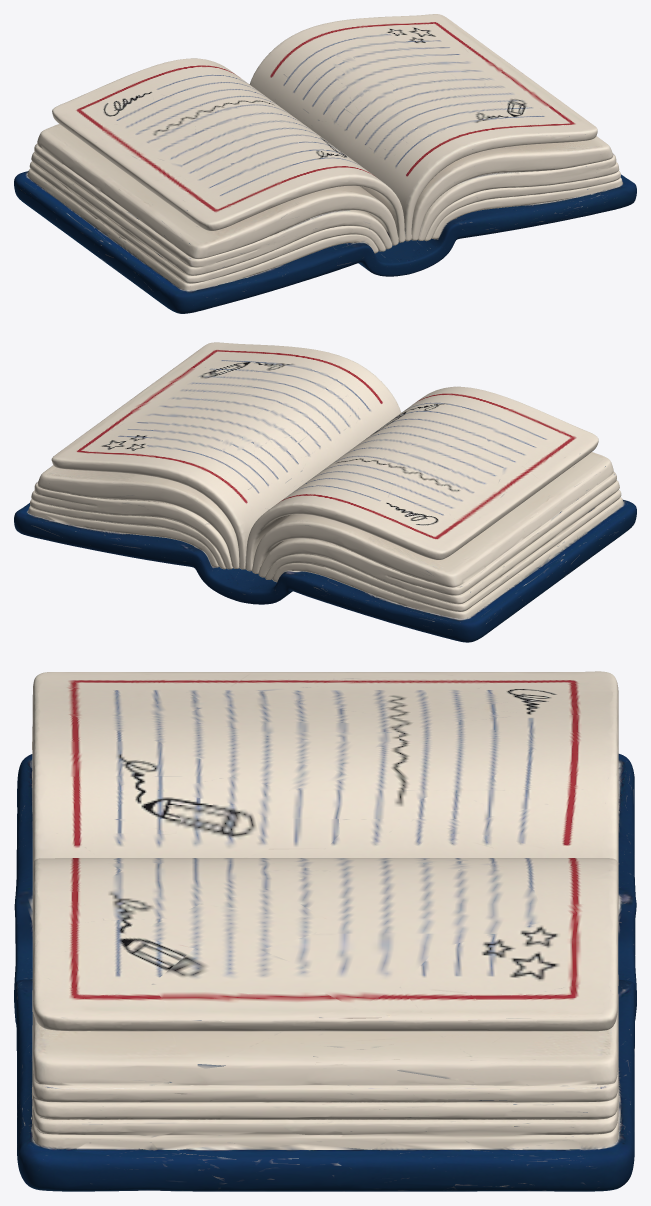
File: Meshy_AI_Open_Journal_with_Pencil_20261030_texture.fbx
3 renders of one model, top to bottom at view 1: azimuth 30°, elevation 25°; view 2: azimuth 150°, elevation 25°; view 3: azimuth 270°, elevation 25°, orthographic. The views are drawn at different scales.
Parts seen in each view (by area): view 1: Mesh_0; view 2: Mesh_0; view 3: Mesh_0.
Part boxes in pixels (bbox=[...]): Mesh_0: bbox=[14, 14, 636, 313]; Mesh_0: bbox=[14, 342, 636, 642]; Mesh_0: bbox=[14, 671, 636, 1191].
Size of the model in its own units: 190 by 43.44 by 122.
1 material, 1 textured.
